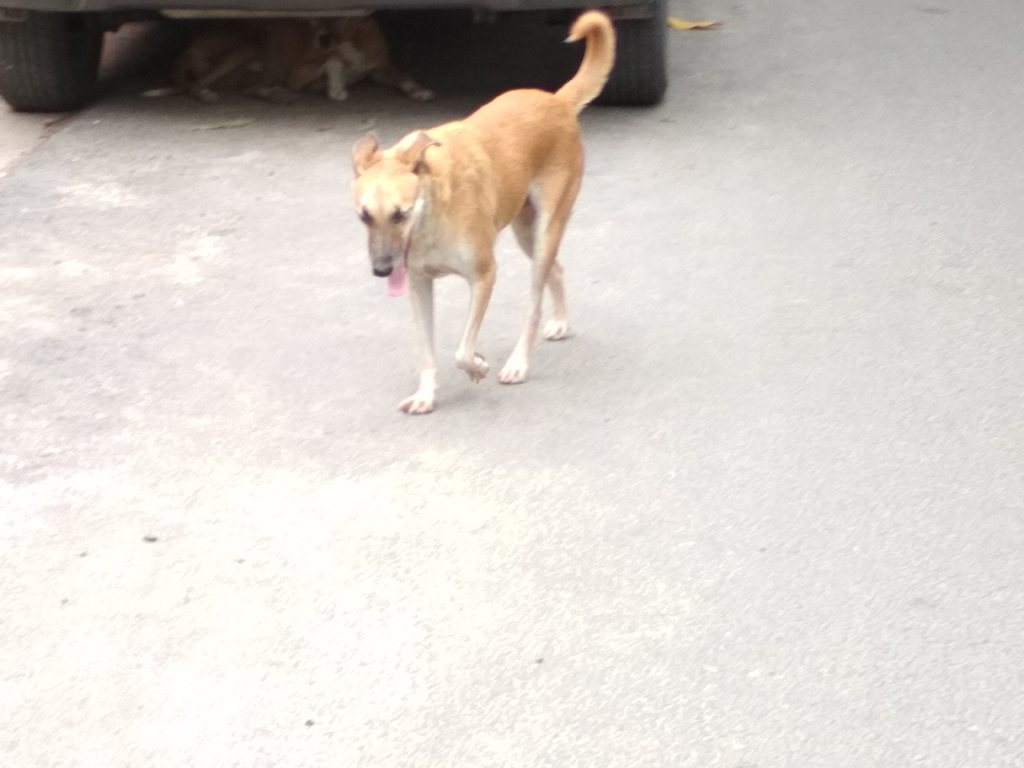dog: (352, 11, 616, 414), (139, 17, 439, 103)
